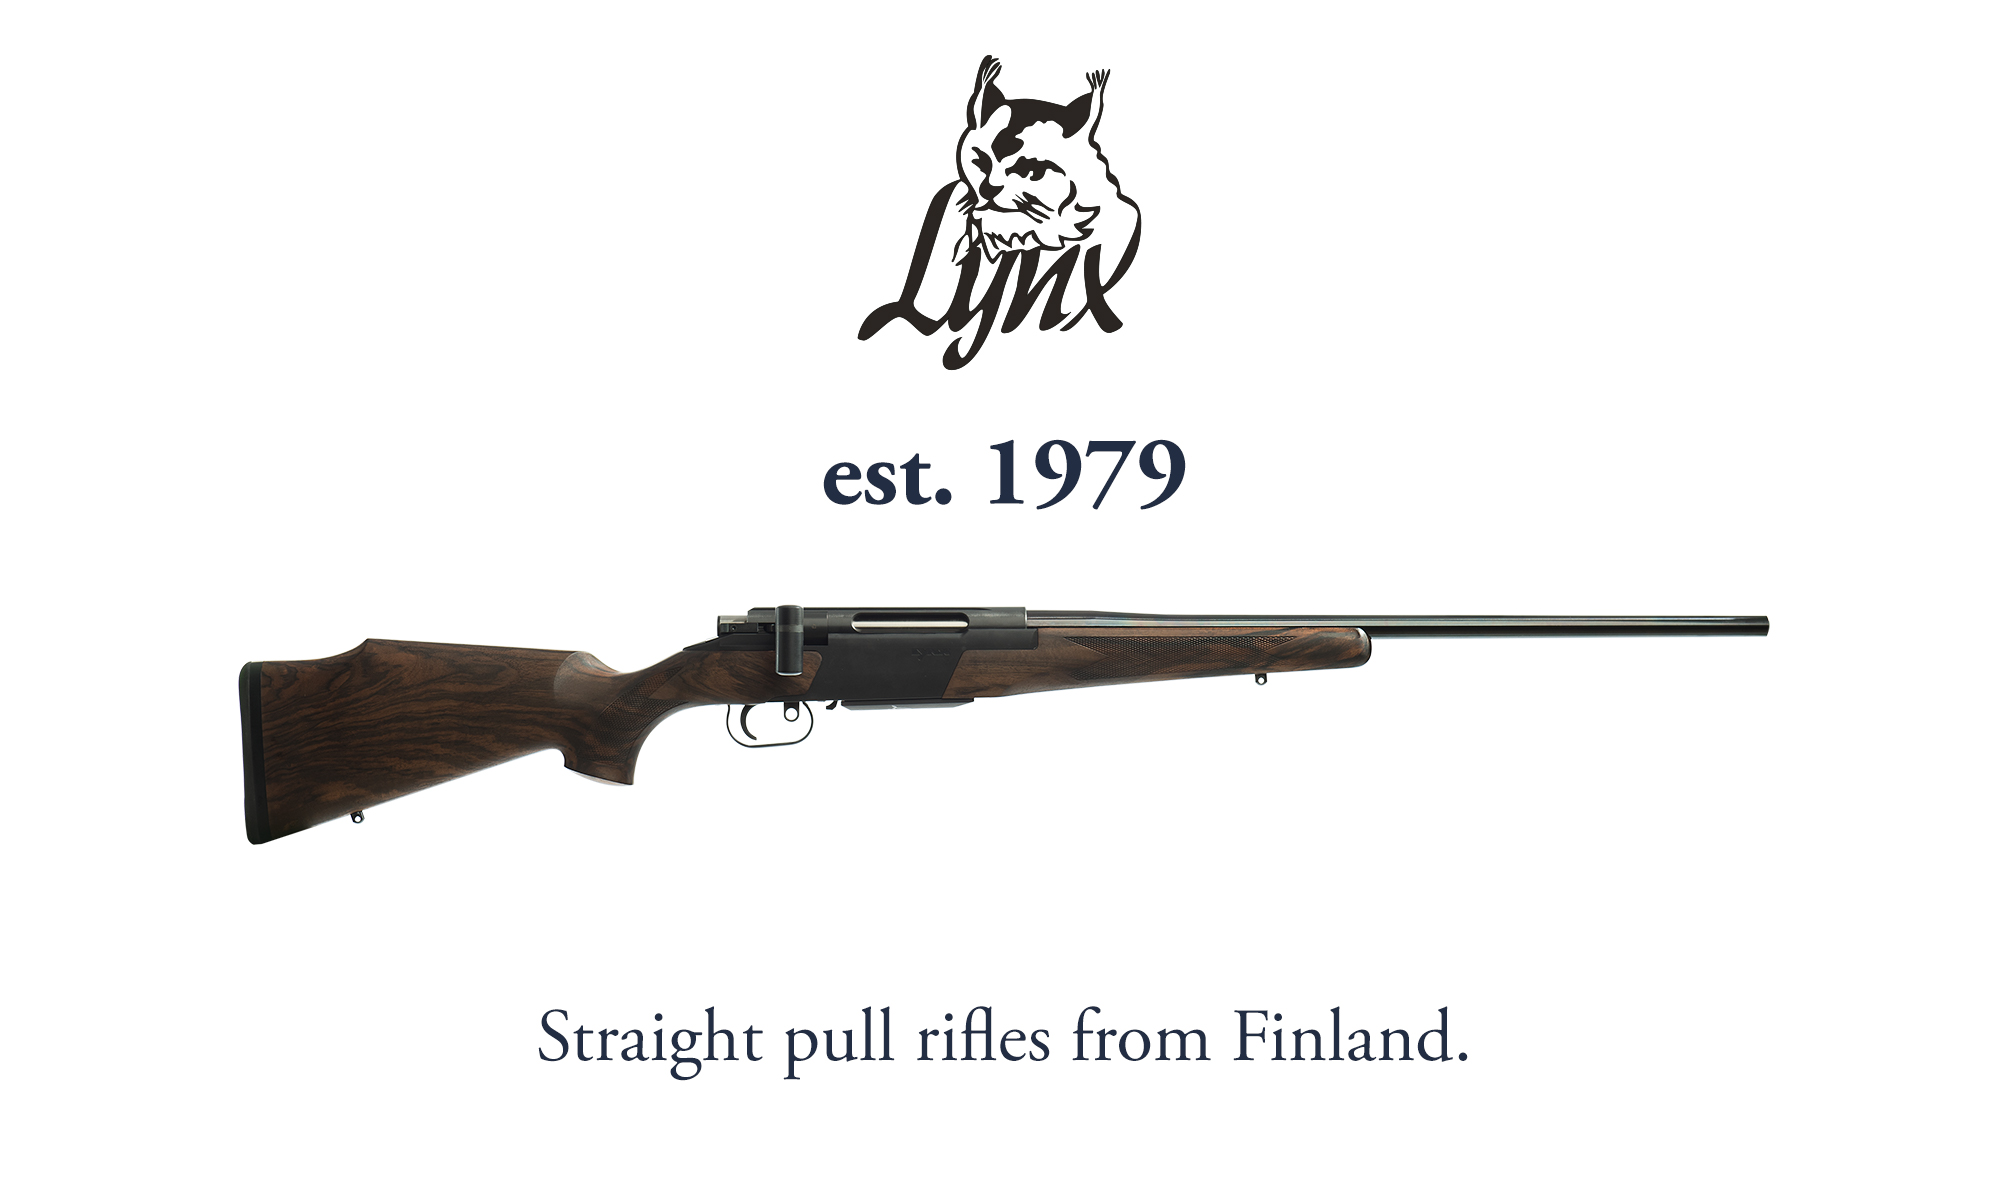Gun: (410, 546, 1761, 750)
